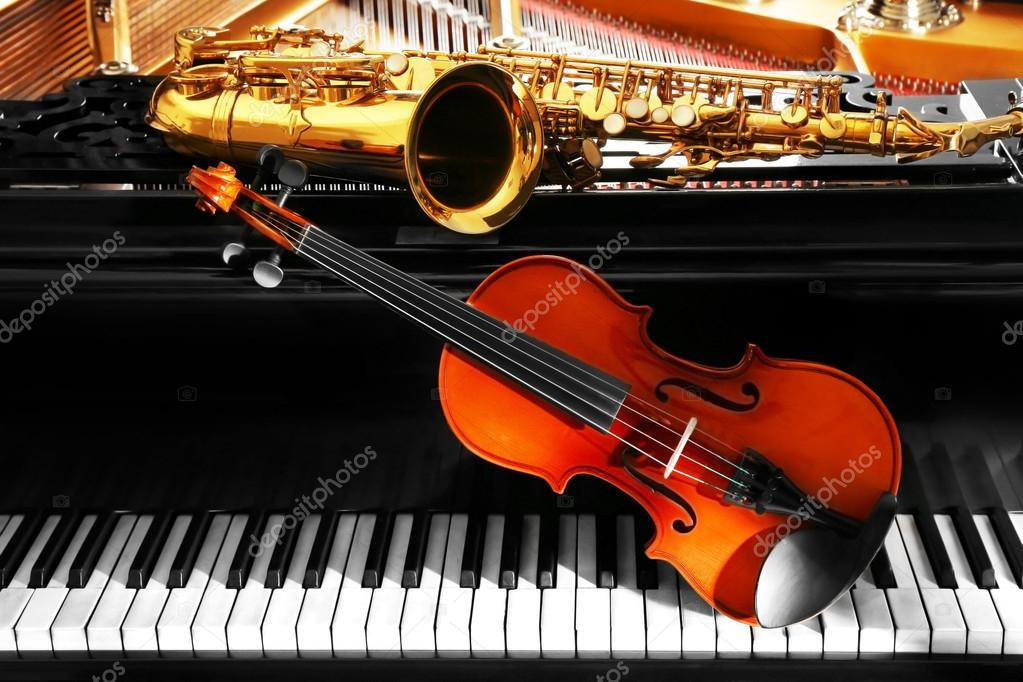Piano: (11, 250, 985, 682)
Saxophone: (110, 1, 1023, 206)
Violin: (158, 141, 930, 653)
